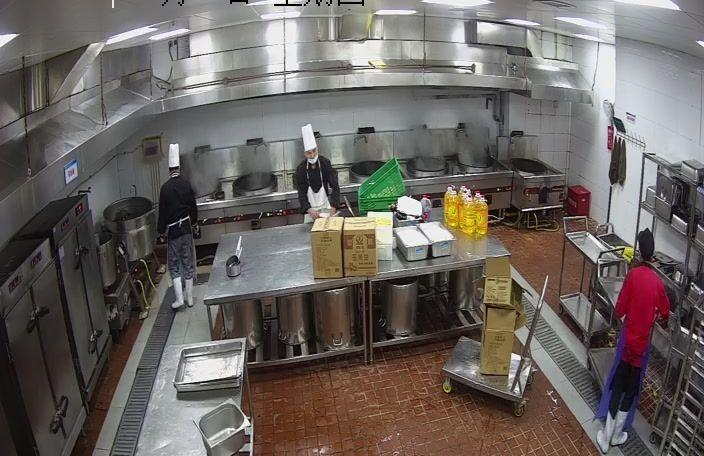mask: (308, 150, 320, 165)
